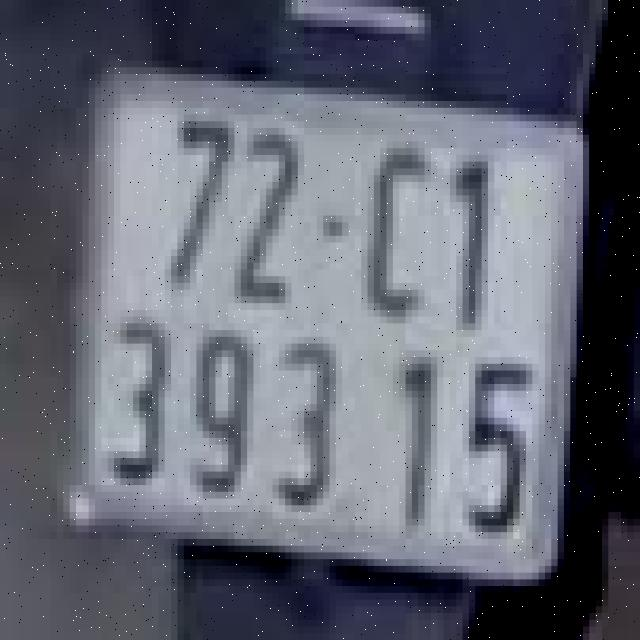1: (443, 142, 507, 350), (393, 333, 443, 542)
2: (238, 122, 307, 324)
3: (270, 316, 346, 526), (101, 303, 178, 499)
5: (450, 347, 545, 562)
7: (162, 101, 231, 310)
9: (184, 316, 260, 518)
C: (355, 124, 437, 333)
